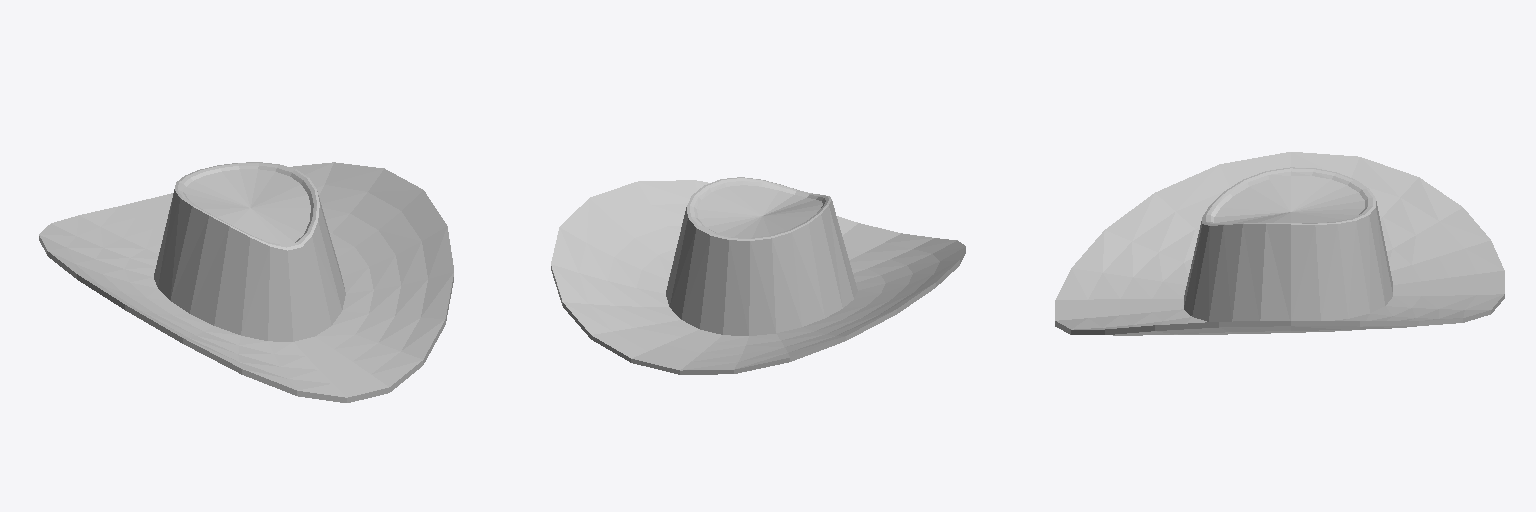
File: Hat_Bandit.obj
The picture shows the model from 3 angles: view 1: azimuth 30°, elevation 25°; view 2: azimuth 150°, elevation 25°; view 3: azimuth 270°, elevation 25°; orthographic projection.
Parts seen in each view (by area): view 1: hat_bandit; view 2: hat_bandit; view 3: hat_bandit.
Part boxes in pixels (bbox=[...]): hat_bandit: bbox=[39, 162, 453, 402]; hat_bandit: bbox=[551, 177, 965, 374]; hat_bandit: bbox=[1055, 152, 1504, 335].
Size of the model in its own units: 89.02 by 29.52 by 100.